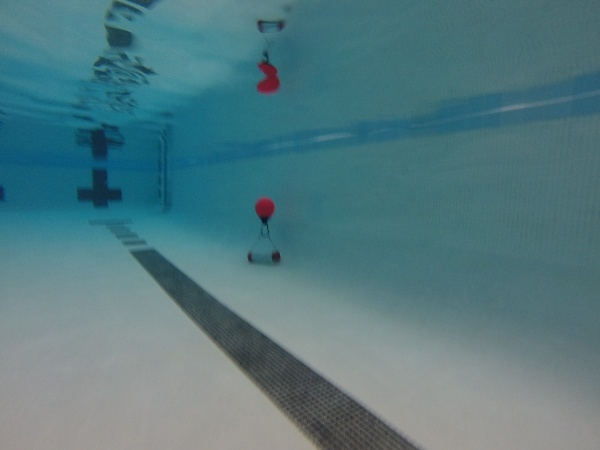buoy_red: (253, 196, 276, 225)
